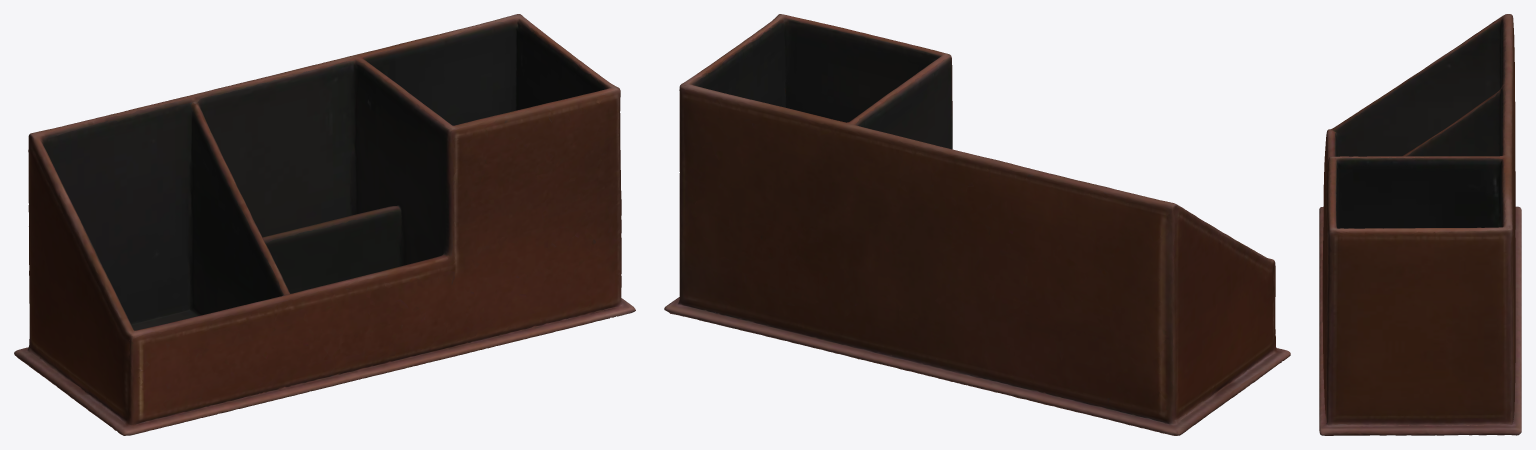
File: Markings_Desk_Caddy.glb
3 renders of one model, left to right at view 1: azimuth 30°, elevation 25°; view 2: azimuth 150°, elevation 25°; view 3: azimuth 270°, elevation 25°, orthographic. The views are drawn at different scales.
Visible parts, largest first — view 1: geometry_0; view 2: geometry_0; view 3: geometry_0.
Part boxes in pixels (<box>): geometry_0: <box>14,14,635,435</box>; geometry_0: <box>664,14,1290,435</box>; geometry_0: <box>1319,14,1521,435</box>.
Size of the model in its own units: 1 by 0.4197 by 0.3788.
Materials: 1 (1 with a texture image).
